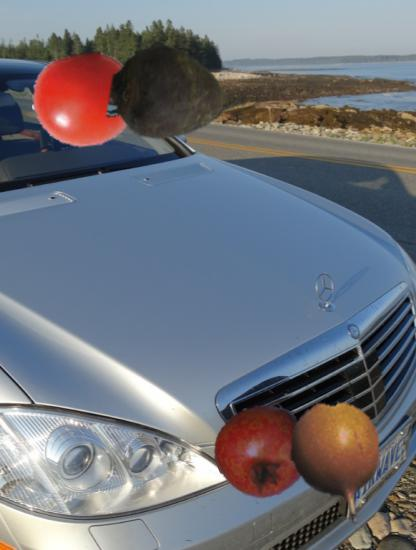Beetroot: (107, 23, 254, 170)
Granadilla: (268, 400, 402, 534)
Pomegranate: (215, 405, 309, 499)
Tomato: (32, 47, 138, 153)
